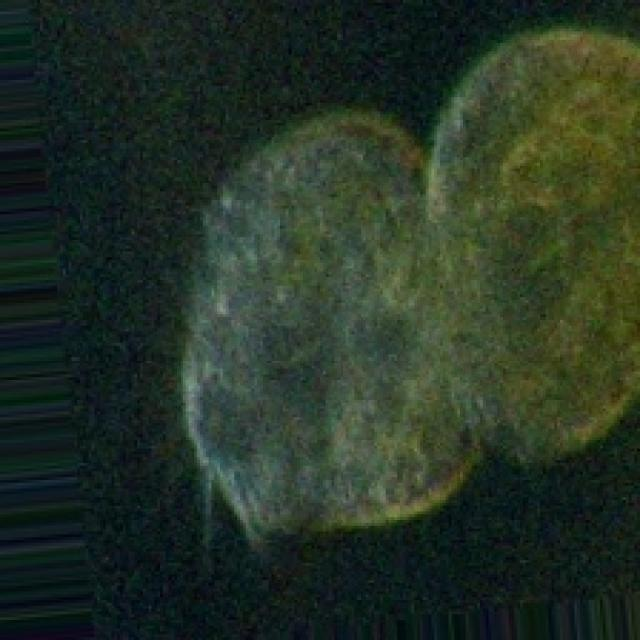Amoeba: (160, 14, 640, 574)
